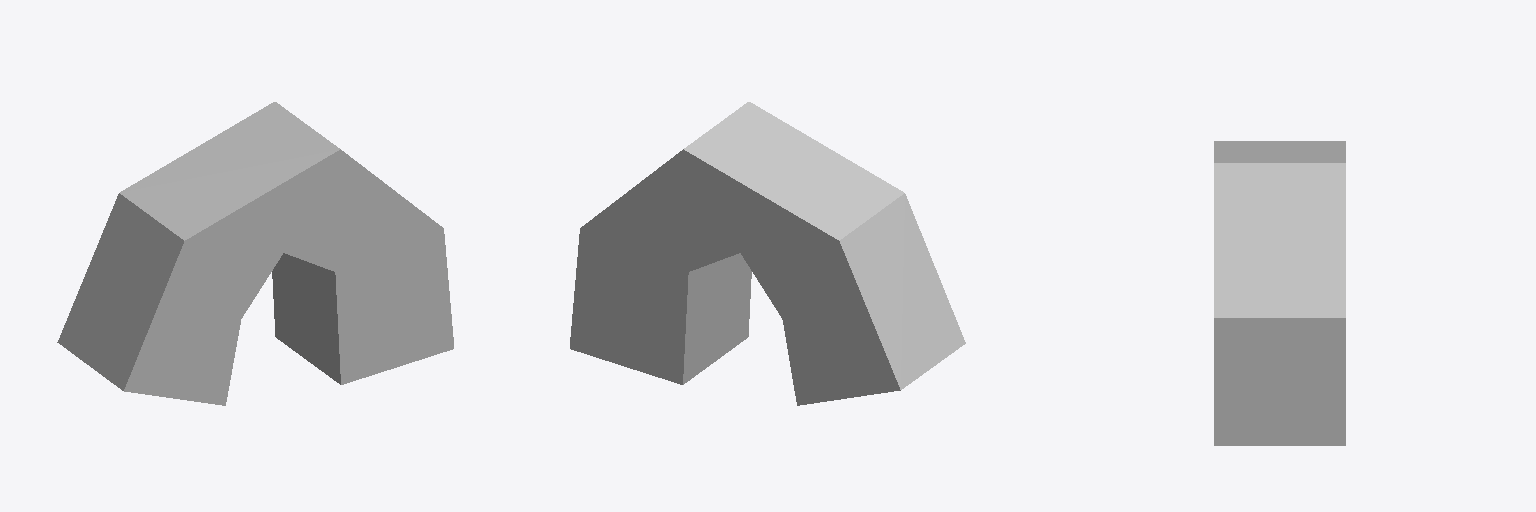
File: Animation_000057.obj
The picture shows the model from 3 angles: view 1: azimuth 30°, elevation 25°; view 2: azimuth 150°, elevation 25°; view 3: azimuth 270°, elevation 25°; orthographic projection.
Visible parts, largest first — view 1: Cube; view 2: Cube; view 3: Cube.
Part boxes in pixels (x1,y1,x2,y2): Cube: (57, 102, 453, 405); Cube: (570, 102, 965, 405); Cube: (1214, 141, 1345, 445).
Size of the model in its own units: 3.88 by 2.64 by 1.33.